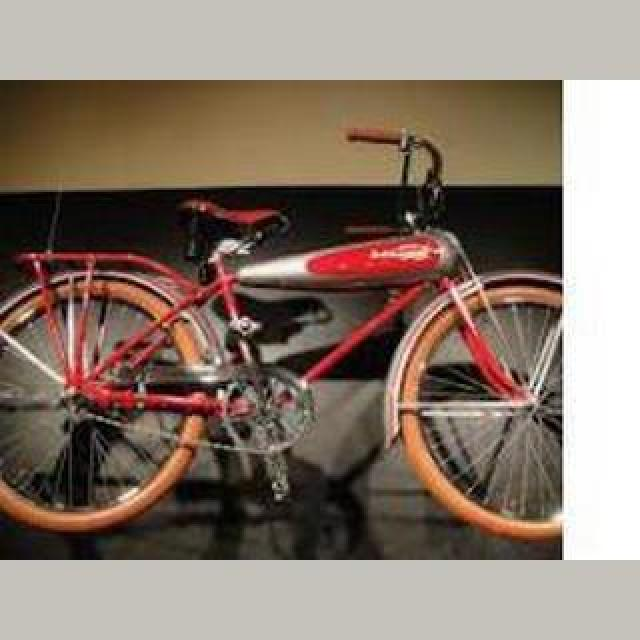Person: (0, 125, 566, 547)
